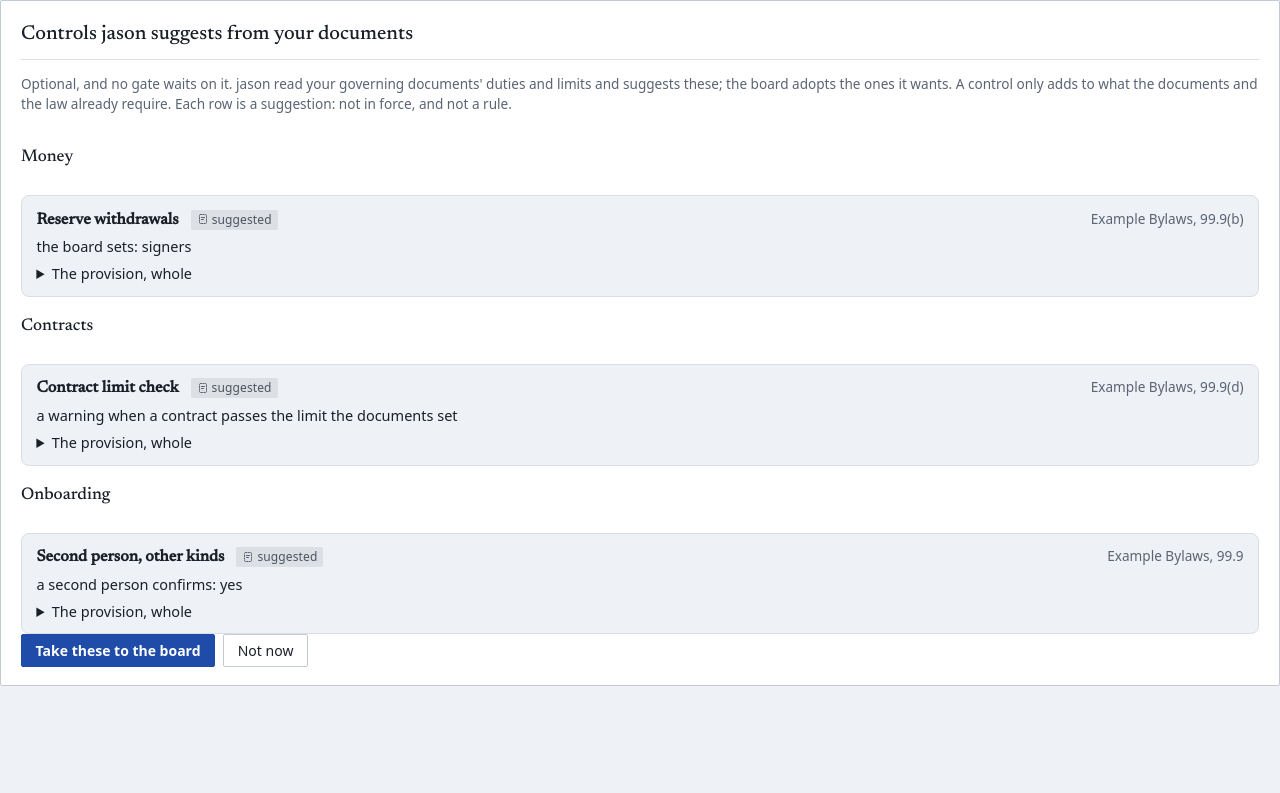
Test case: the onboarding controls step › takes each suggestion to the board one at a time, reports each result, and adopts nothing
The width and height of the screenshot is (1280, 793).
Expected: the heading "Money" is shown, [21,149,73,165]
Click the button "Take these to the board". click: (118, 651)
box: [21,634,215,668]
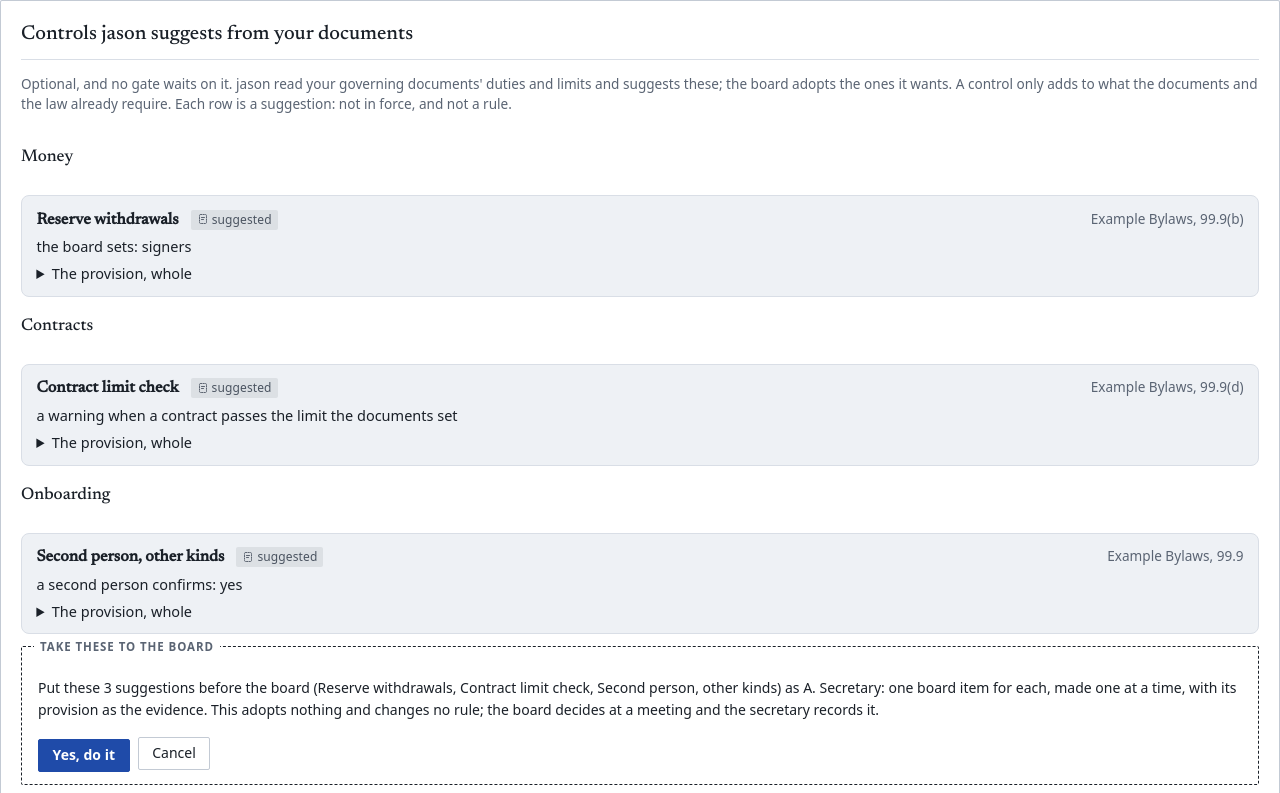
Expected: the element "Take these to the board" shows "these 3 suggestions", [64,678,195,698]
Expected: the element "Take these to the board" shows "adopts nothing and changes no rule", [38,678,1236,719]
Click the button "Yes, do it". click: (84, 755)
box: [38,739,130,772]
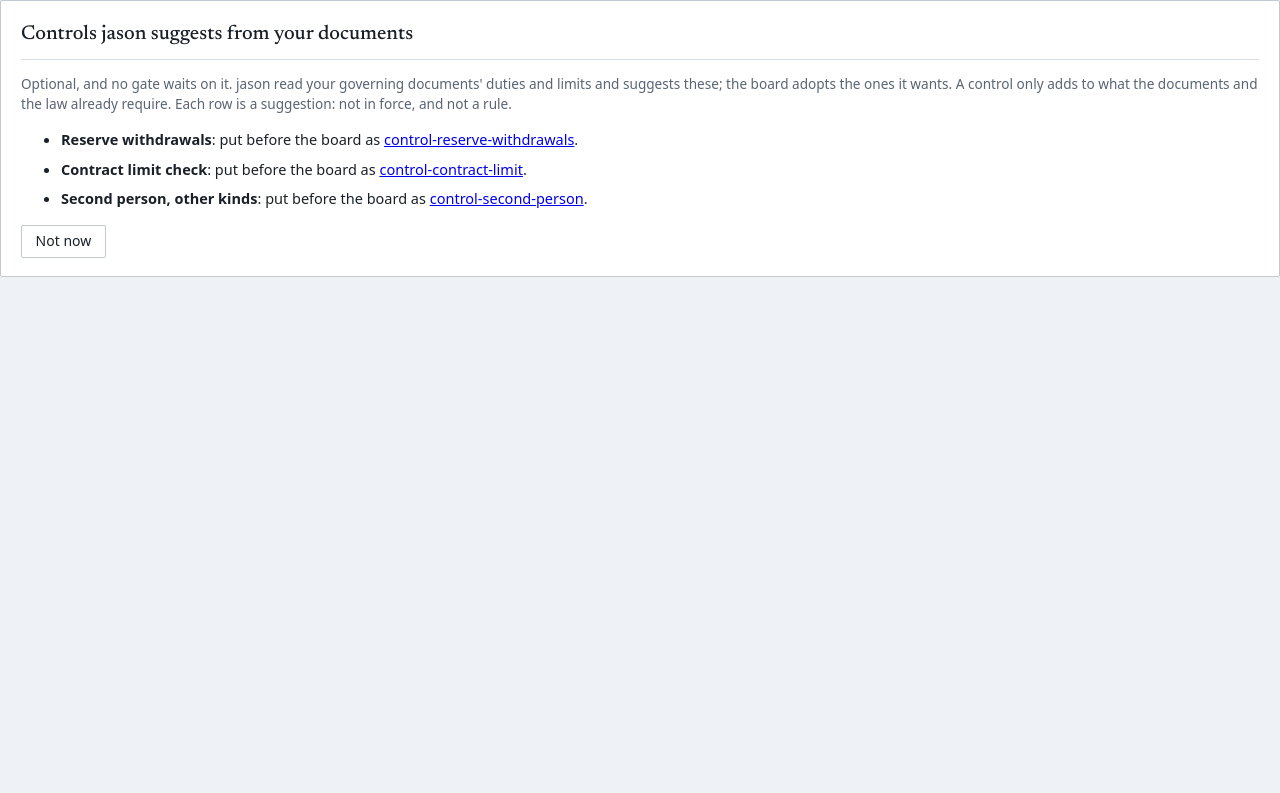
Expected: the number of list items is 3, [61,129,578,149]; [61,159,527,179]; [61,188,588,208]
Expected: the message with test id "controls-results" is shown, [61,129,588,208]
Expected: the text "Take these to the board" is gone
